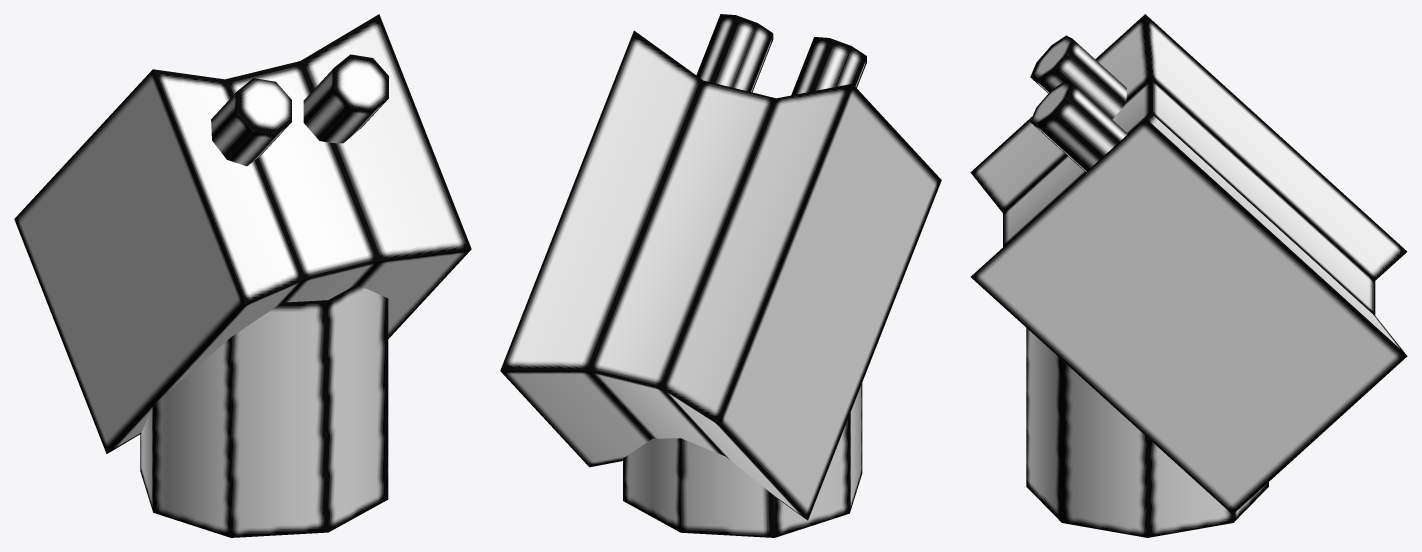
Rendered from AntiAirTurret2.obj.
The picture shows the model from 3 angles, left to right: view 1: azimuth 30°, elevation 25°; view 2: azimuth 150°, elevation 25°; view 3: azimuth 270°, elevation 25°; orthographic projection. The views are drawn at different scales.
Visible parts, largest first — view 1: Box11; view 2: Box11; view 3: Box11.
Boxes of the visible parts, bbox=[...] form: Box11: bbox=[14, 14, 471, 537]; Box11: bbox=[500, 14, 941, 537]; Box11: bbox=[970, 14, 1407, 537].
Size of the model in its own units: 1.02 by 1.93 by 1.8.
1 material, 1 textured.
